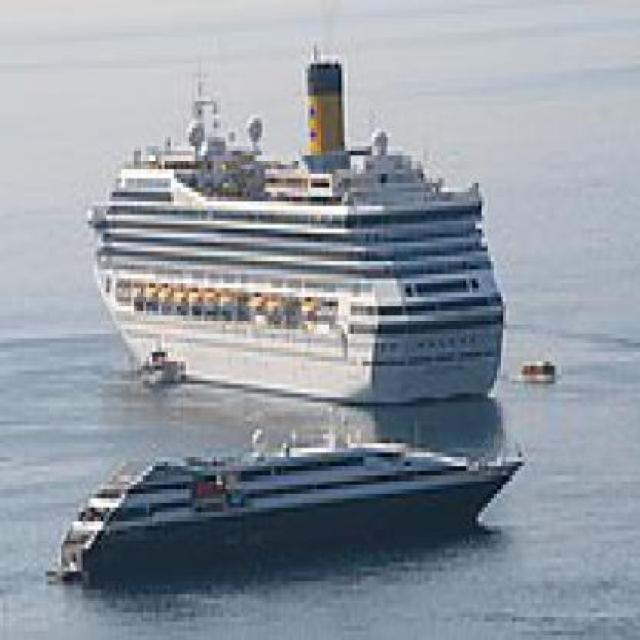cruise: (71, 29, 516, 421), (43, 422, 531, 586)
